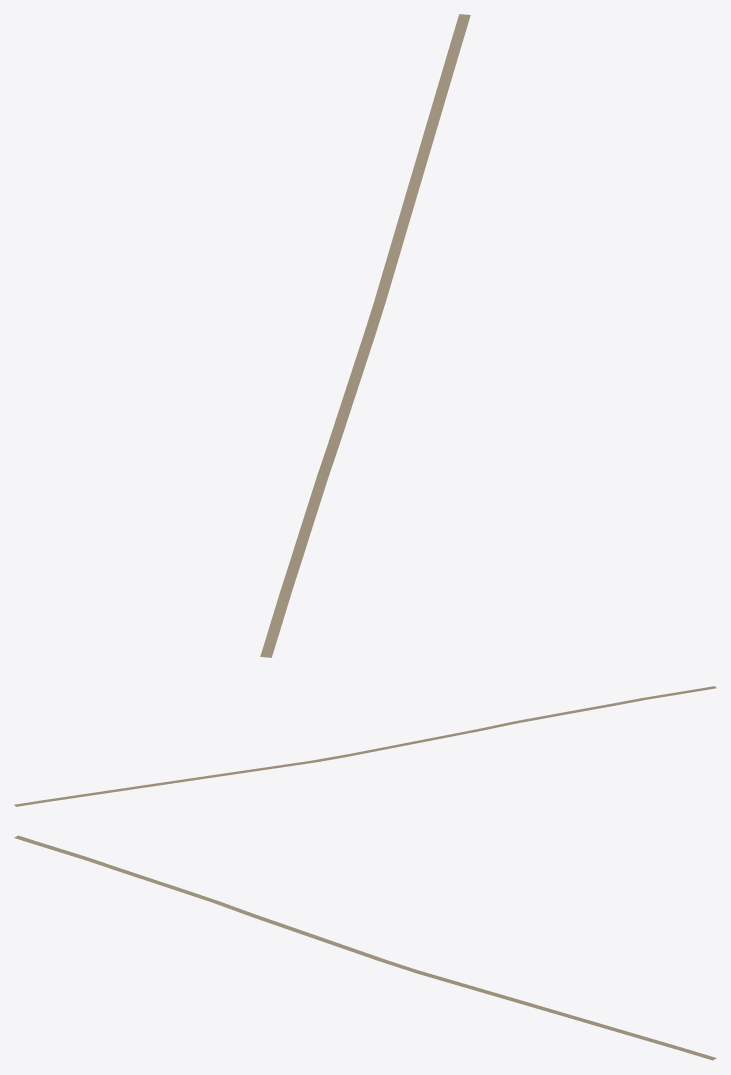
File: farm_-31_-29_track.glb
The picture shows the model from 3 angles, top to bottom: view 1: azimuth 30°, elevation 25°; view 2: azimuth 150°, elevation 25°; view 3: azimuth 270°, elevation 25°; orthographic projection. The views are drawn at different scales.
Visible parts, largest first — view 1: geometry_0; view 2: geometry_0; view 3: geometry_0.
Boxes of the visible parts, x1,y1,x2,y2 form: geometry_0: (260,14,470,657); geometry_0: (14,686,716,806); geometry_0: (14,835,716,1060).
Size of the model in its own units: 263 by 4.95 by 341.
